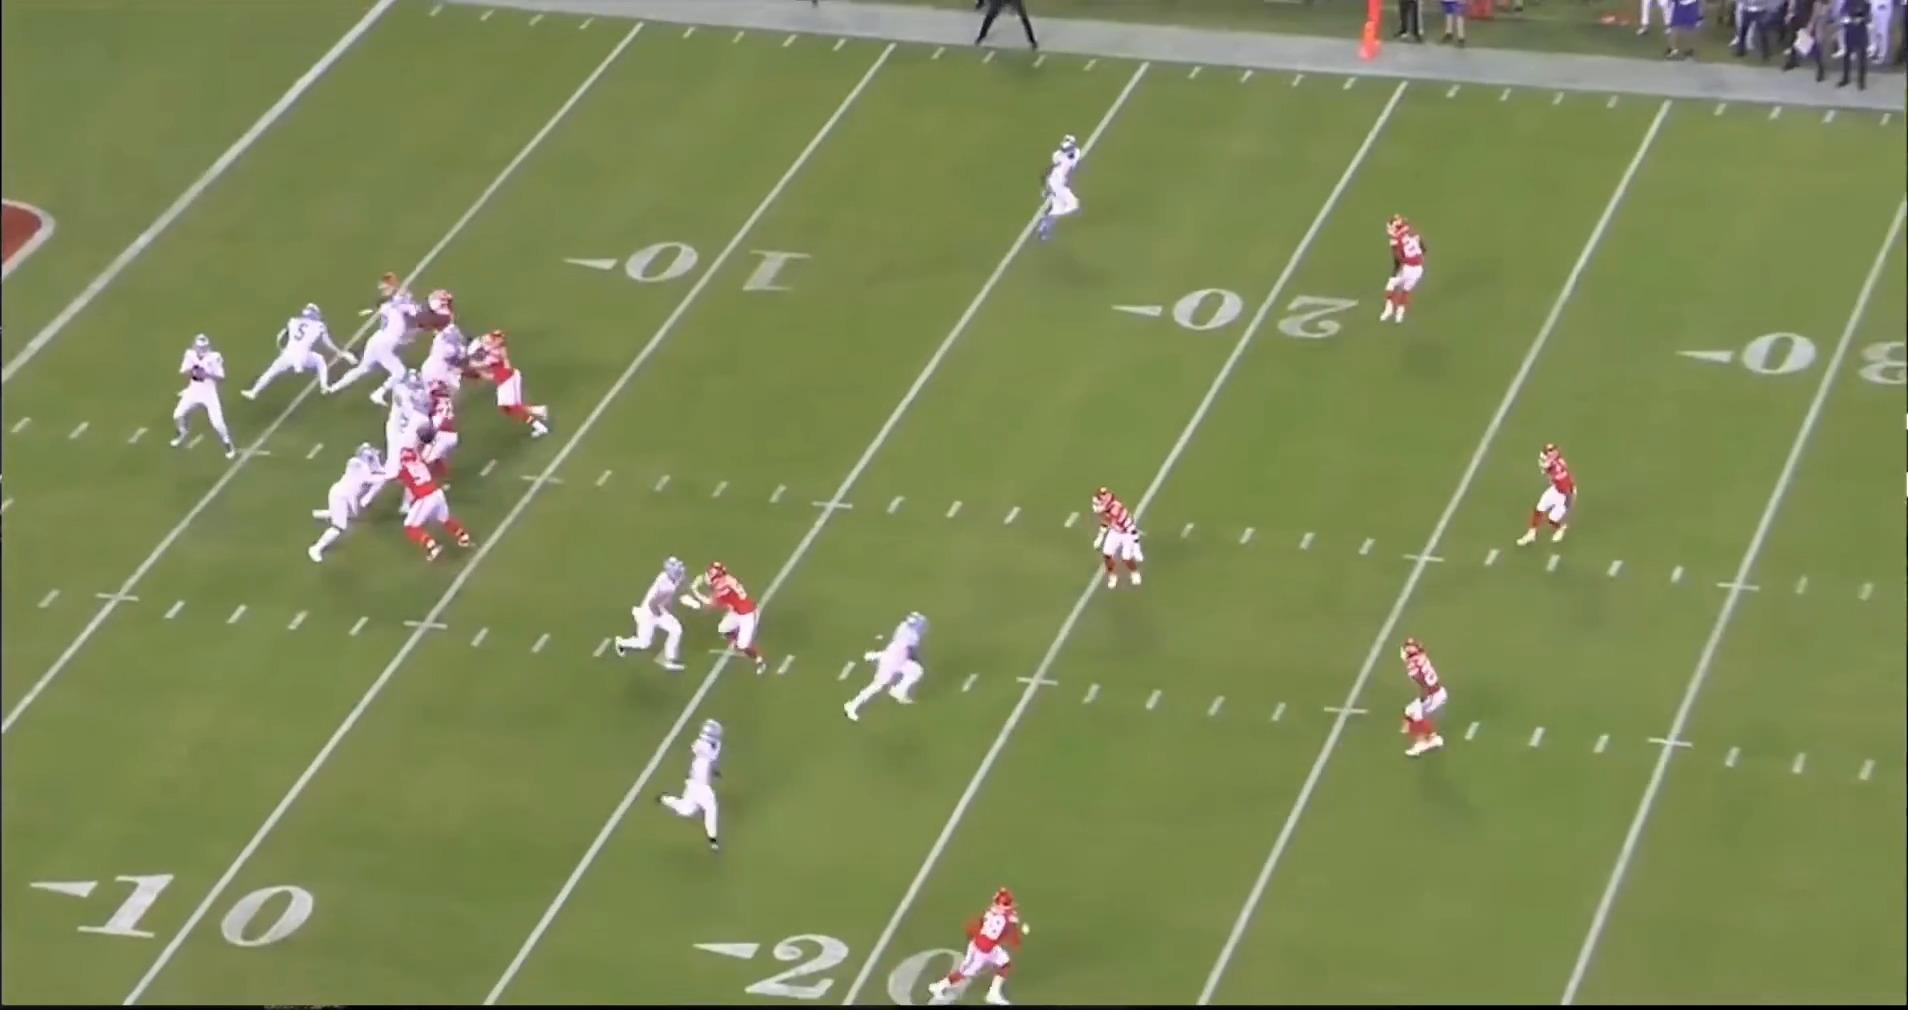player: (928, 888, 1036, 1009), (605, 554, 699, 678), (835, 608, 935, 724), (333, 288, 428, 406), (247, 305, 352, 410), (308, 447, 397, 570), (665, 715, 737, 861), (159, 333, 238, 462), (391, 447, 476, 562), (698, 558, 780, 677), (359, 386, 436, 509), (462, 325, 547, 432), (1387, 638, 1449, 765), (1519, 438, 1584, 552), (1093, 489, 1154, 601), (1032, 132, 1091, 246), (1378, 214, 1431, 329), (362, 271, 423, 367), (421, 380, 468, 495), (421, 328, 472, 398), (383, 368, 428, 444), (424, 286, 466, 365)
ref: (962, 0, 1039, 52)
